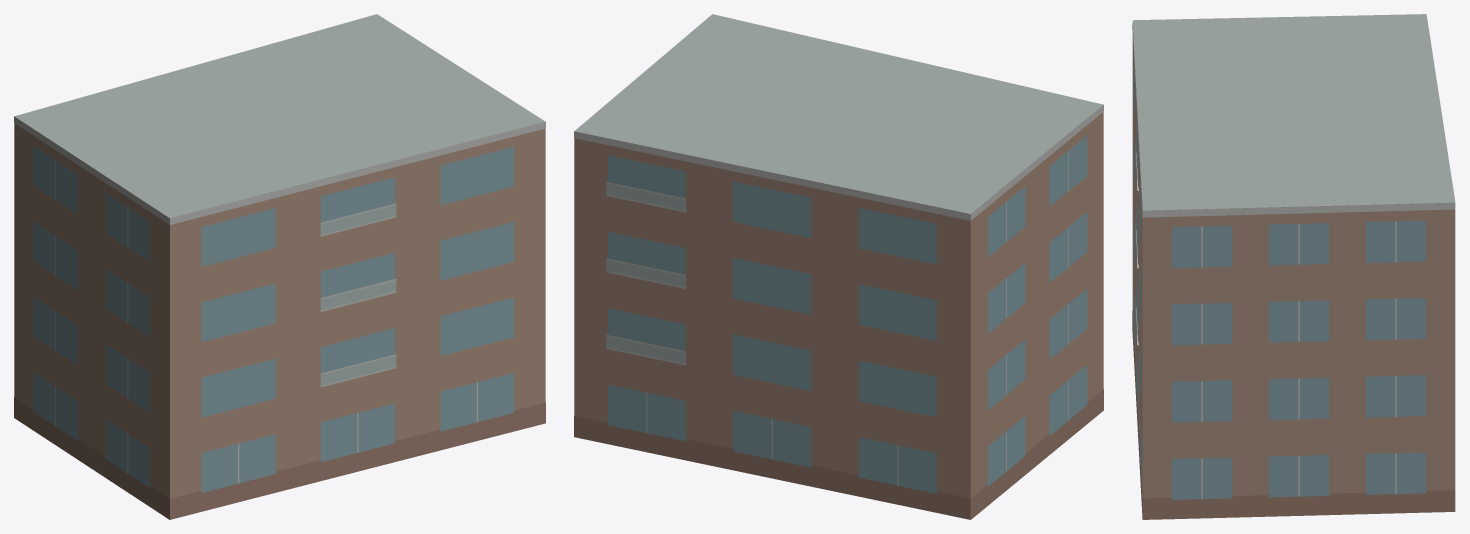
File: survey-upis-32706495.glb
3 renders of one model, left to right at view 1: azimuth 30°, elevation 25°; view 2: azimuth 150°, elevation 25°; view 3: azimuth 270°, elevation 25°, orthographic. The views are drawn at different scales.
Visible parts, largest first — view 1: survey-upis-32706495.tmp; view 2: survey-upis-32706495.tmp; view 3: survey-upis-32706495.tmp.
Part boxes in pixels (x1,y1,x2,y2): survey-upis-32706495.tmp: [14, 14, 545, 519]; survey-upis-32706495.tmp: [574, 14, 1103, 519]; survey-upis-32706495.tmp: [1132, 14, 1455, 519].
Bounding box in the file's own units: 14.88 × 10.9 × 10.33.
